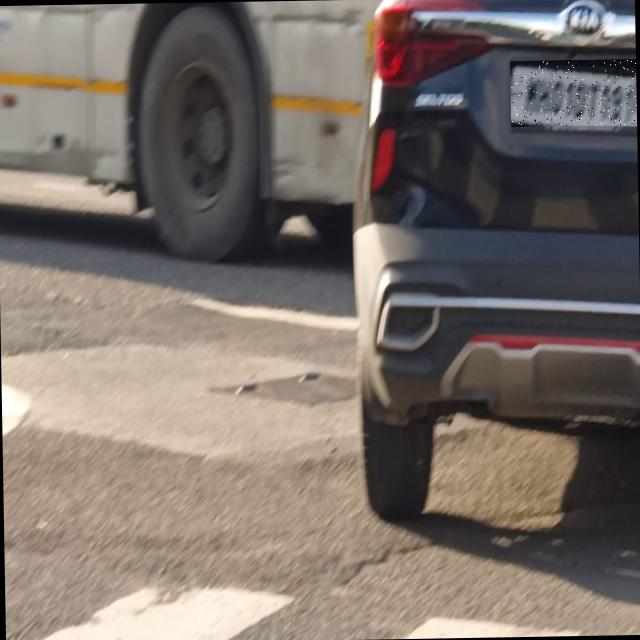Plate: (511, 60, 638, 128)
